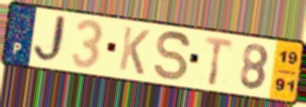3: (70, 18, 107, 70)
8: (238, 43, 269, 91)
J: (32, 14, 72, 65)
K: (117, 24, 152, 77)
S: (153, 29, 193, 83)
T: (203, 35, 235, 88)
